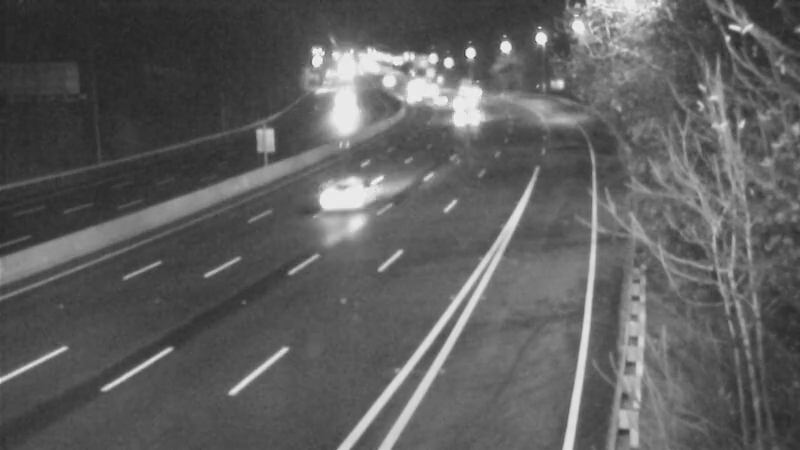vehicle: (319, 148, 399, 228), (360, 56, 410, 106), (440, 59, 490, 109), (392, 70, 442, 120), (435, 77, 485, 127), (438, 88, 488, 138), (316, 76, 366, 126)
